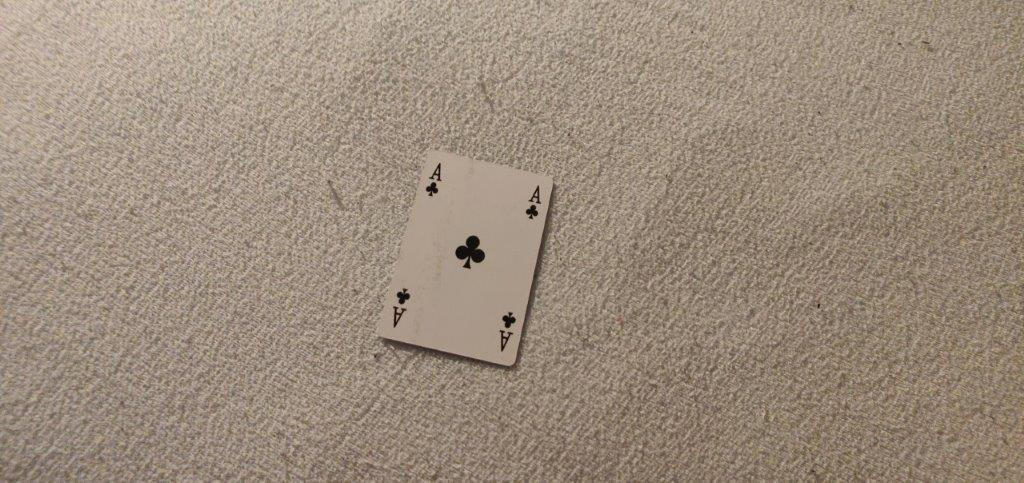AC: (520, 182, 545, 225), (421, 160, 448, 199)
